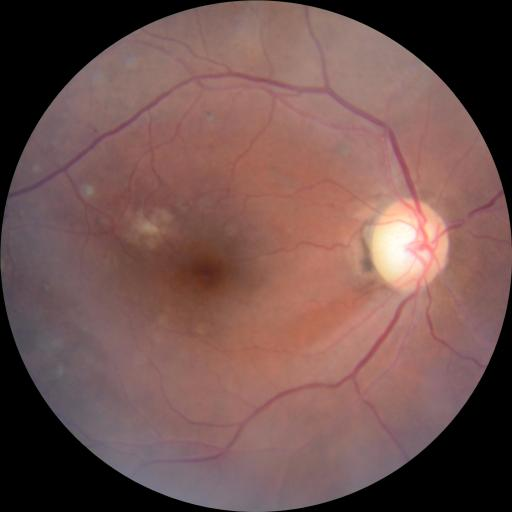Optic Cup: (388, 214, 436, 273)
Optic Disc: (372, 198, 448, 290)
